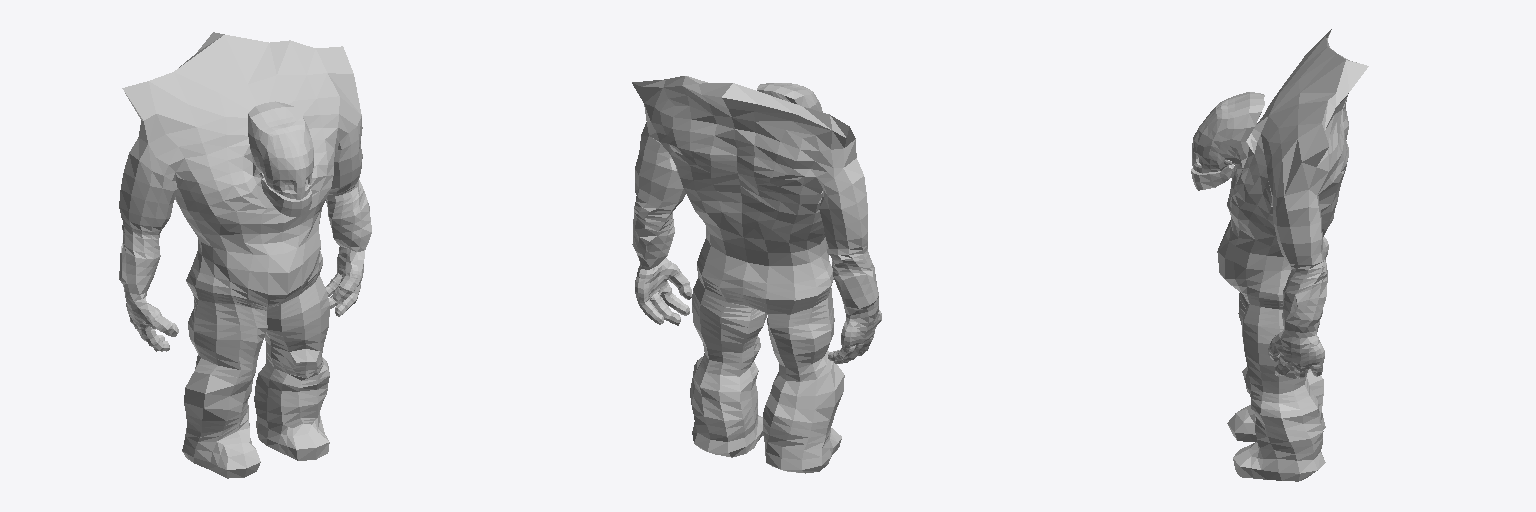
File: golem_000006.obj
3 renders of one model, left to right at view 1: azimuth 30°, elevation 25°; view 2: azimuth 150°, elevation 25°; view 3: azimuth 270°, elevation 25°, orthographic.
Parts seen in each view (by area): view 1: golem; view 2: golem; view 3: golem.
Boxes of the visible parts, x1=… form: golem: x1=119, y1=32, x2=371, y2=478; golem: x1=632, y1=76, x2=881, y2=473; golem: x1=1191, y1=29, x2=1368, y2=481.
Size of the model in its own units: 7.35 by 11.28 by 4.63.